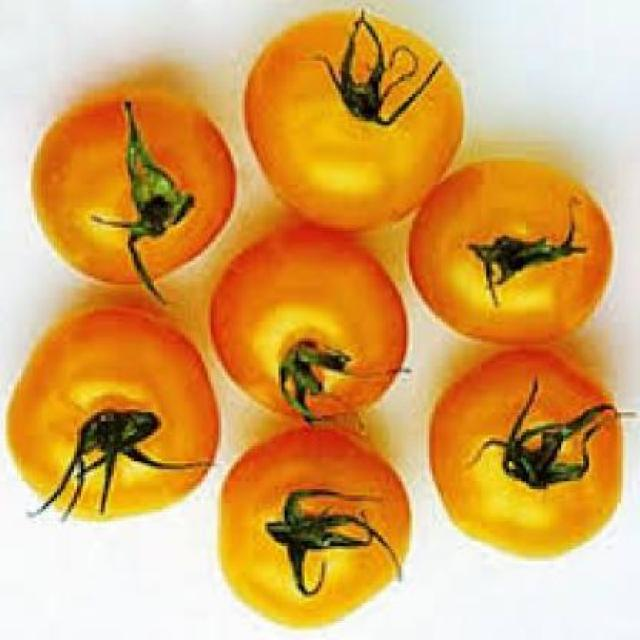BIODEGRADABLE: (248, 15, 463, 233), (11, 310, 222, 528), (34, 85, 237, 301), (432, 352, 626, 560), (213, 225, 410, 429), (222, 427, 412, 631), (412, 162, 617, 347)
